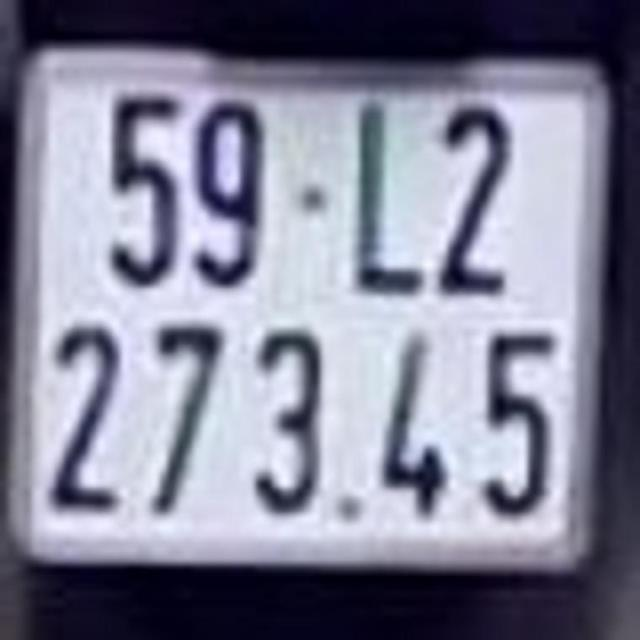2: (46, 317, 123, 514), (439, 101, 513, 298)
3: (252, 322, 323, 517)
4: (379, 325, 450, 522)
5: (480, 323, 560, 520), (105, 87, 183, 287)
7: (148, 317, 226, 517)
9: (190, 90, 267, 290)
L: (348, 92, 427, 299)
